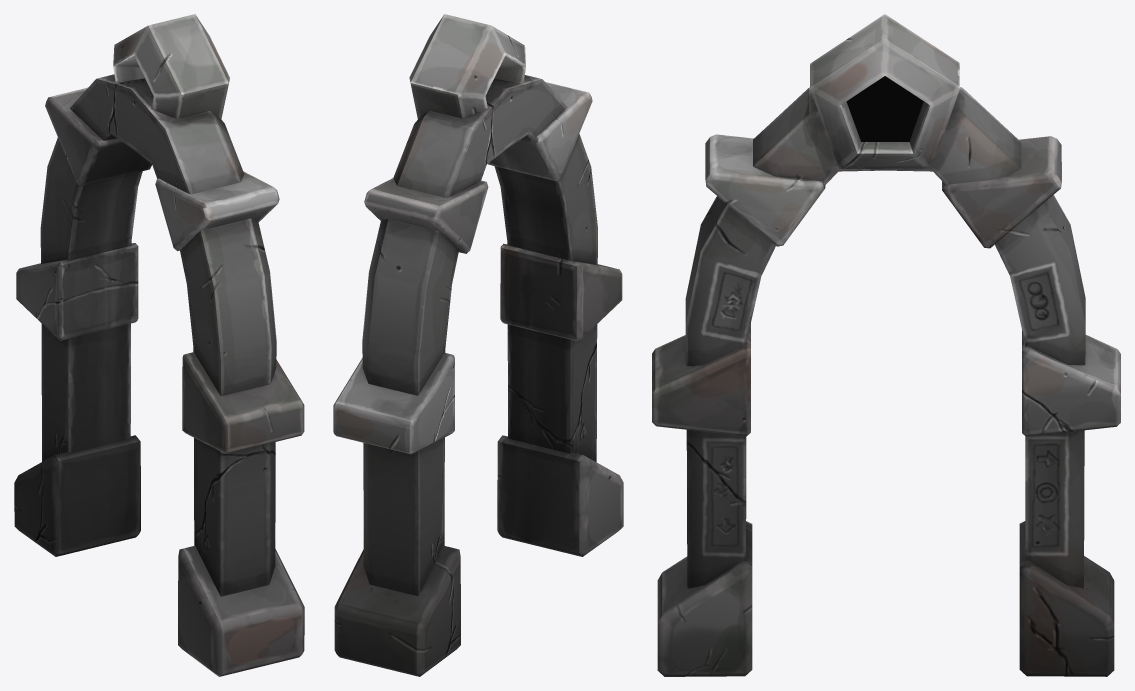
Rendered from Gate_Light Monument.fbx.
3 renders of one model, left to right at view 1: azimuth 30°, elevation 25°; view 2: azimuth 150°, elevation 25°; view 3: azimuth 270°, elevation 25°, orthographic. The views are drawn at different scales.
Parts seen in each view (by area): view 1: Gate_Light Monument_Baked; view 2: Gate_Light Monument_Baked; view 3: Gate_Light Monument_Baked.
Boxes of the visible parts, x1=… form: Gate_Light Monument_Baked: x1=14, y1=14, x2=304, y2=676; Gate_Light Monument_Baked: x1=333, y1=14, x2=623, y2=676; Gate_Light Monument_Baked: x1=652, y1=14, x2=1120, y2=676.
Bounding box in the file's own units: 83.42 × 479 × 321.
1 material, 1 textured.
